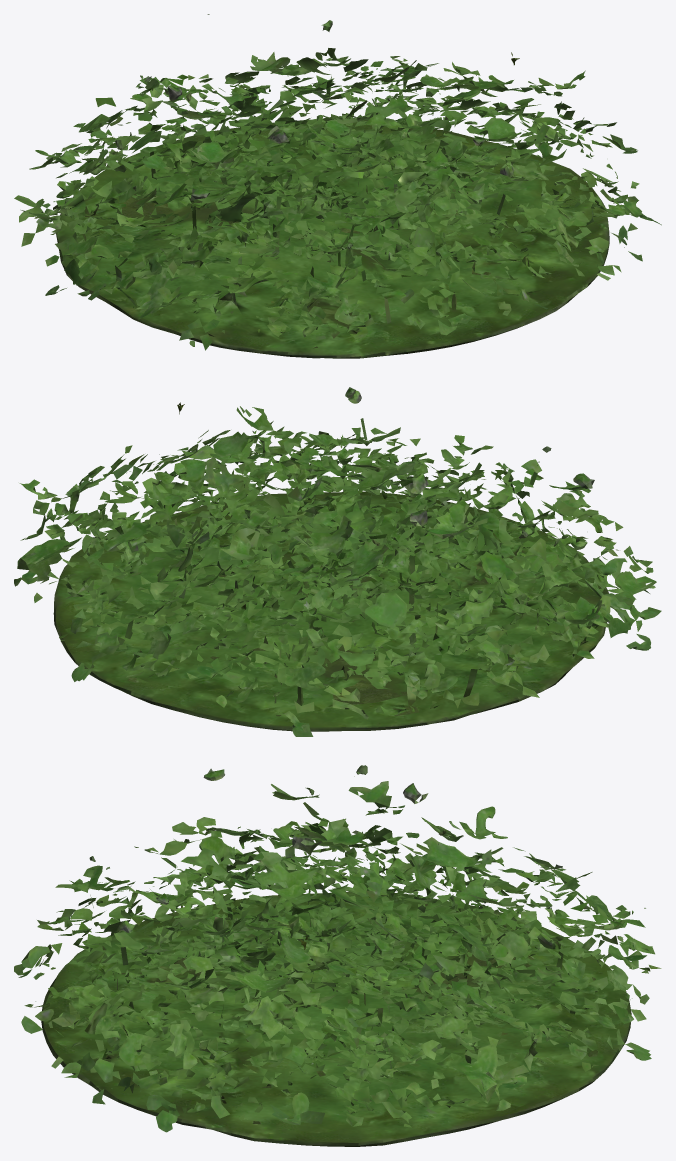
Rendered from meadows_cover_clover_a.glb.
3 renders of one model, top to bottom at view 1: azimuth 30°, elevation 25°; view 2: azimuth 150°, elevation 25°; view 3: azimuth 270°, elevation 25°, orthographic. The views are drawn at different scales.
Visible parts, largest first — view 1: Mesh_0; view 2: Mesh_0; view 3: Mesh_0.
Boxes of the visible parts, bbox=[...] form: Mesh_0: bbox=[14, 14, 661, 358]; Mesh_0: bbox=[14, 387, 661, 736]; Mesh_0: bbox=[14, 765, 661, 1146].
Bounding box in the file's own units: 1.84 × 0.4785 × 1.65.
1 material, 1 textured.
